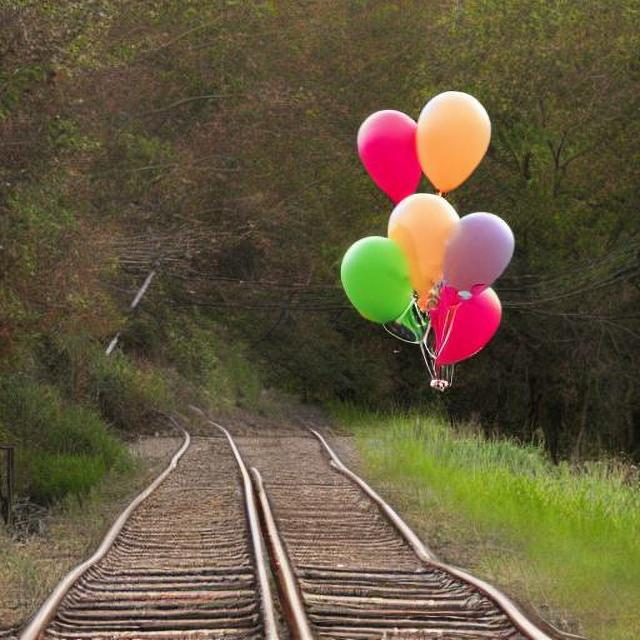balloon: (340, 90, 517, 392)
